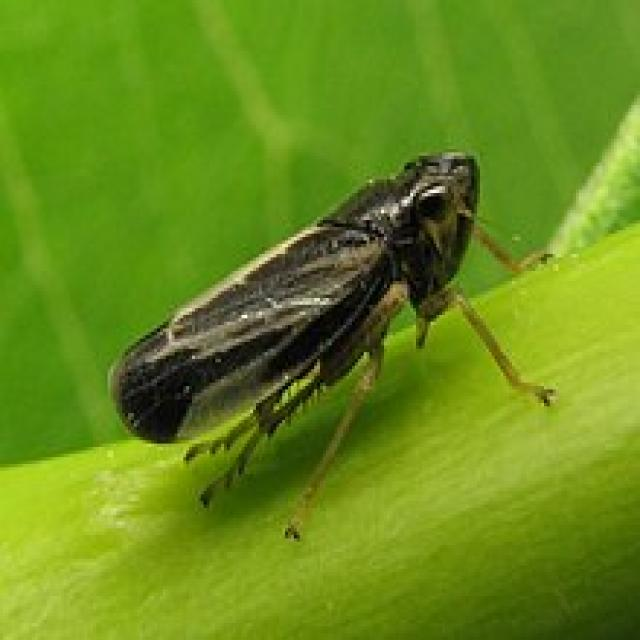Yechan: (78, 134, 520, 538)
